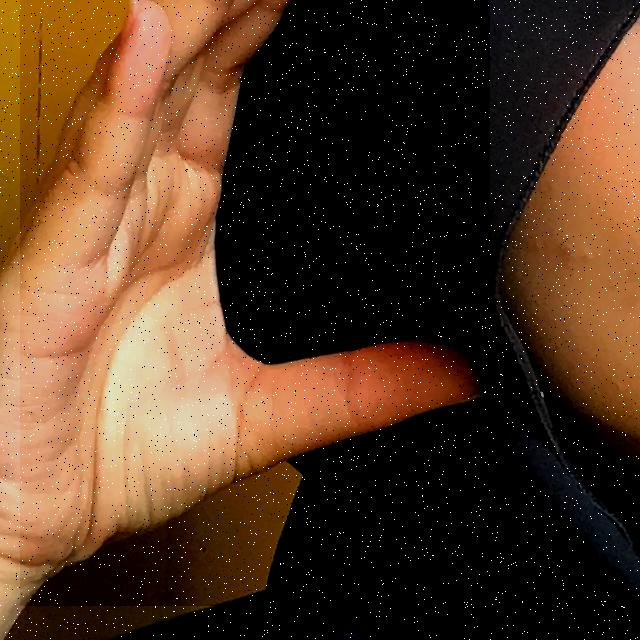mendengar: (20, 0, 490, 606)
